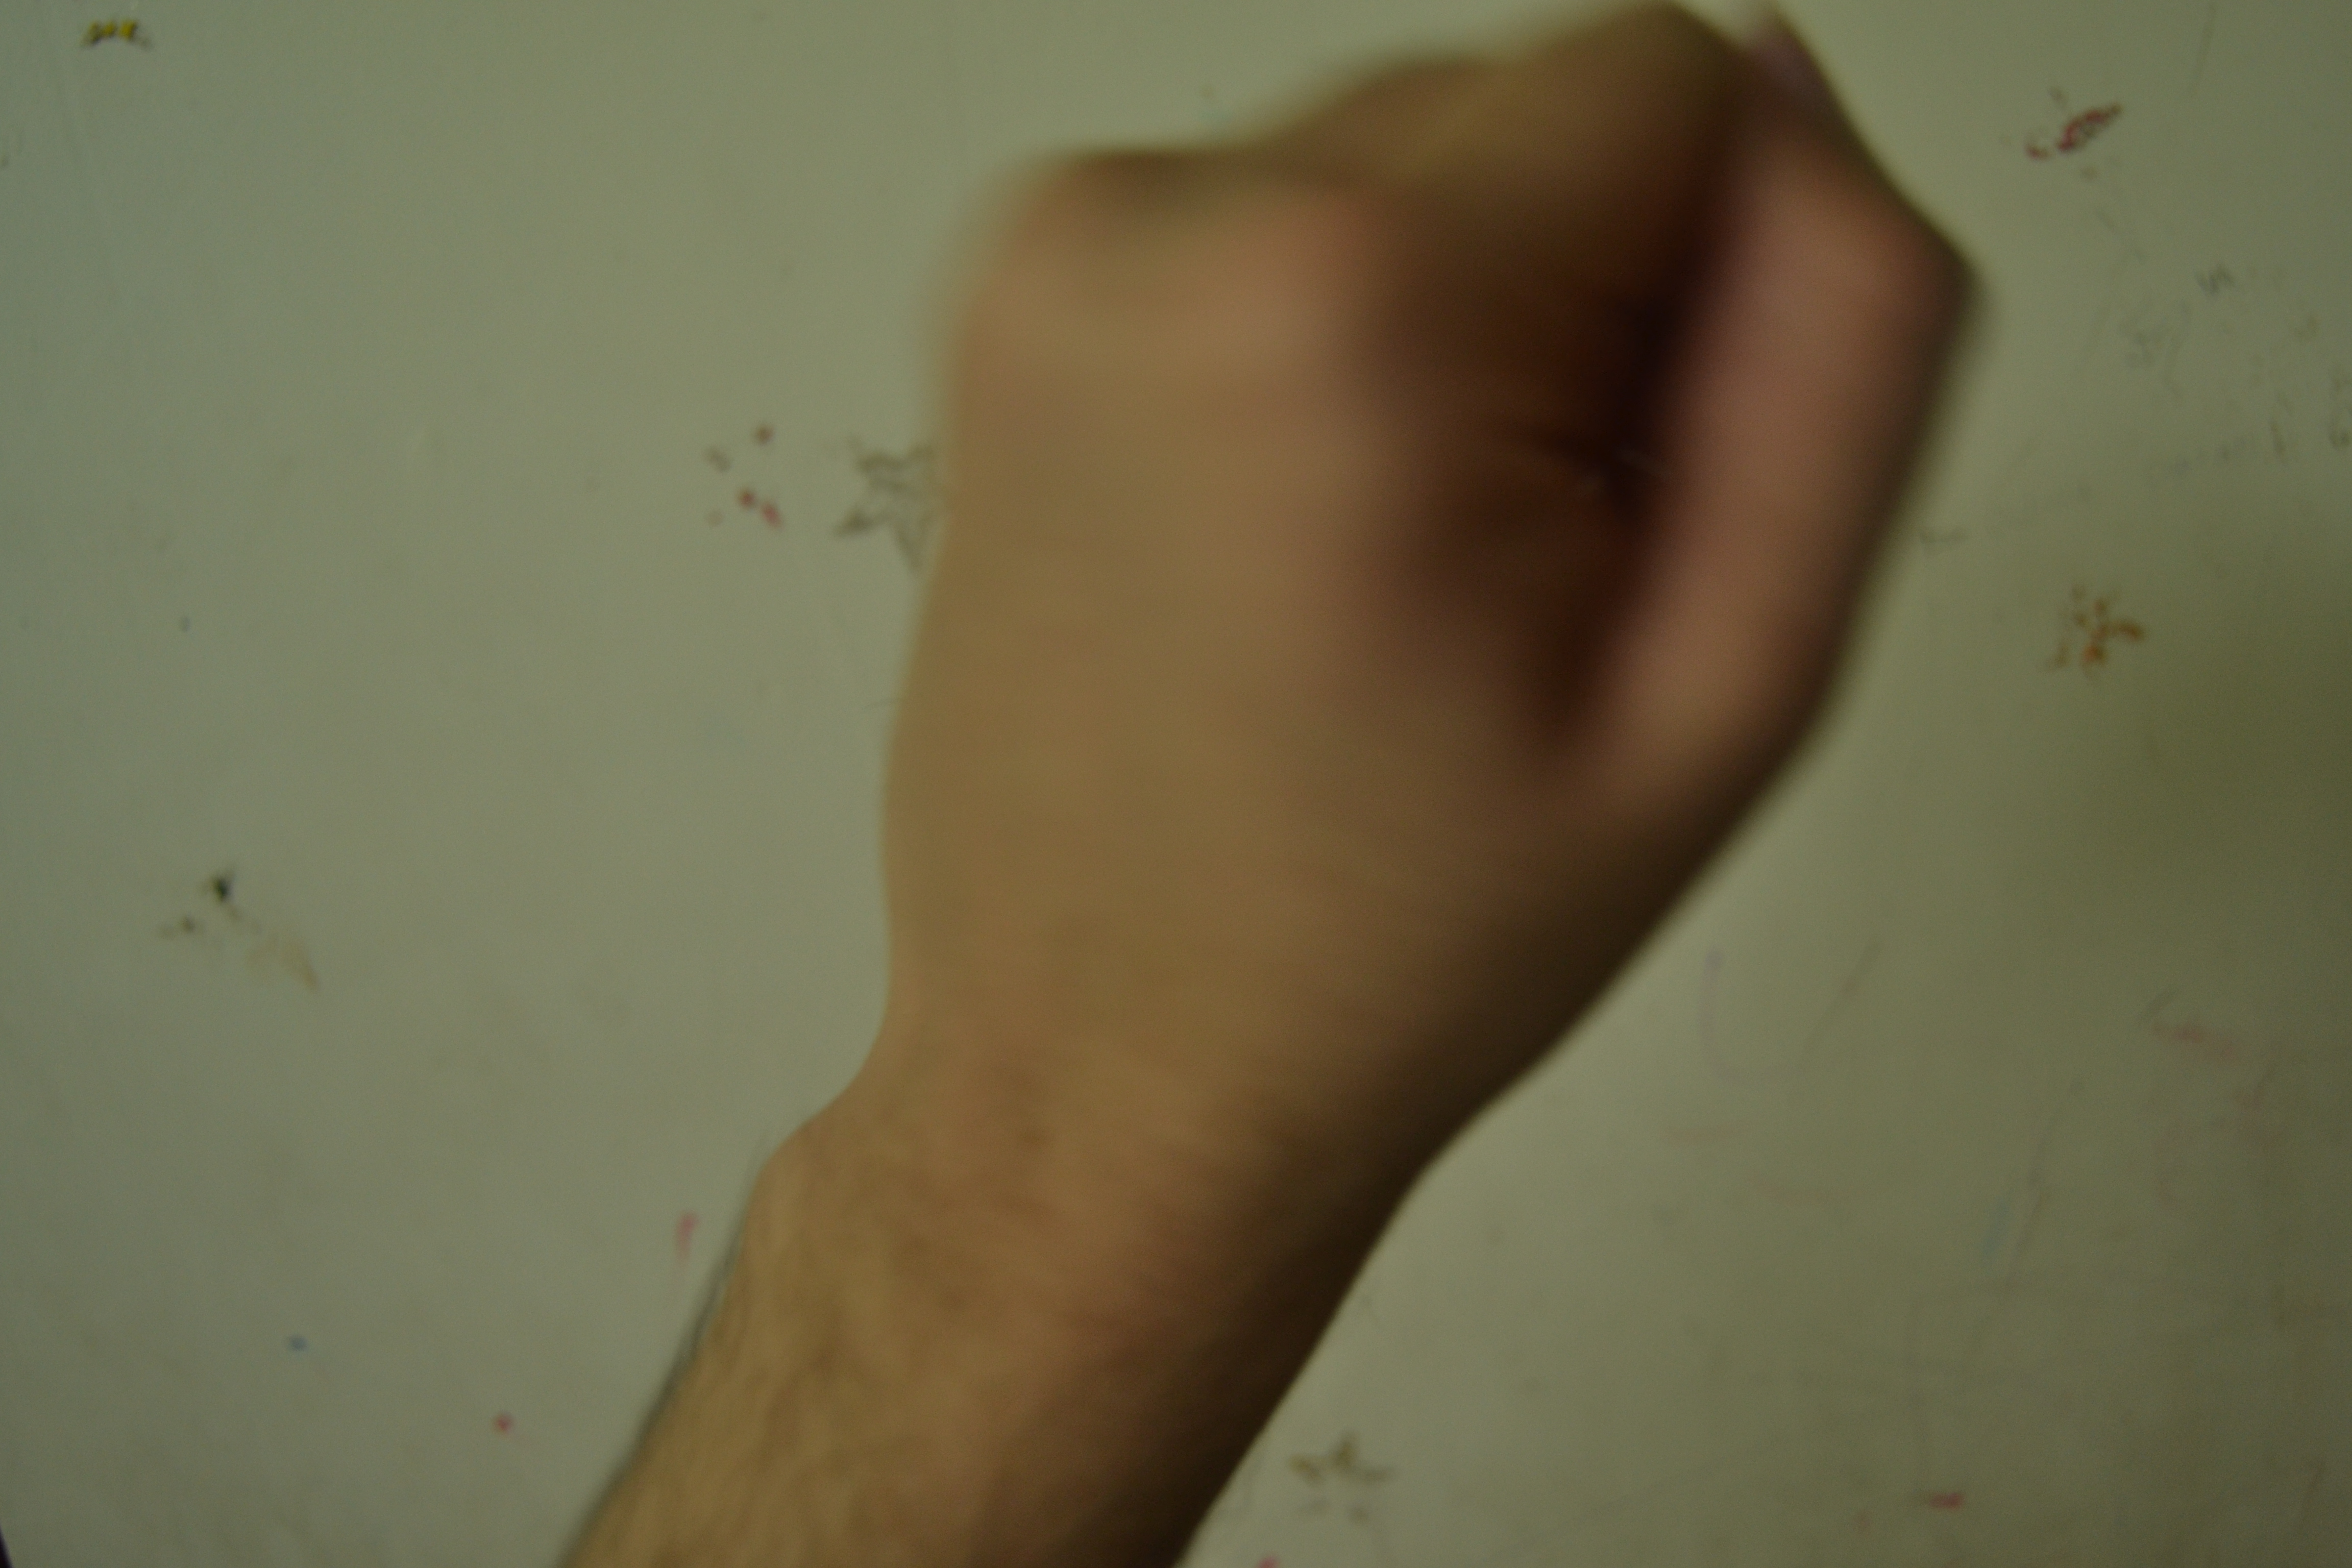click: (884, 42, 1988, 1123)
